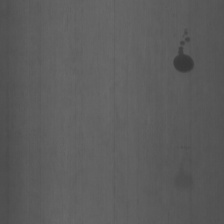oil_spot: (169, 25, 197, 75)
